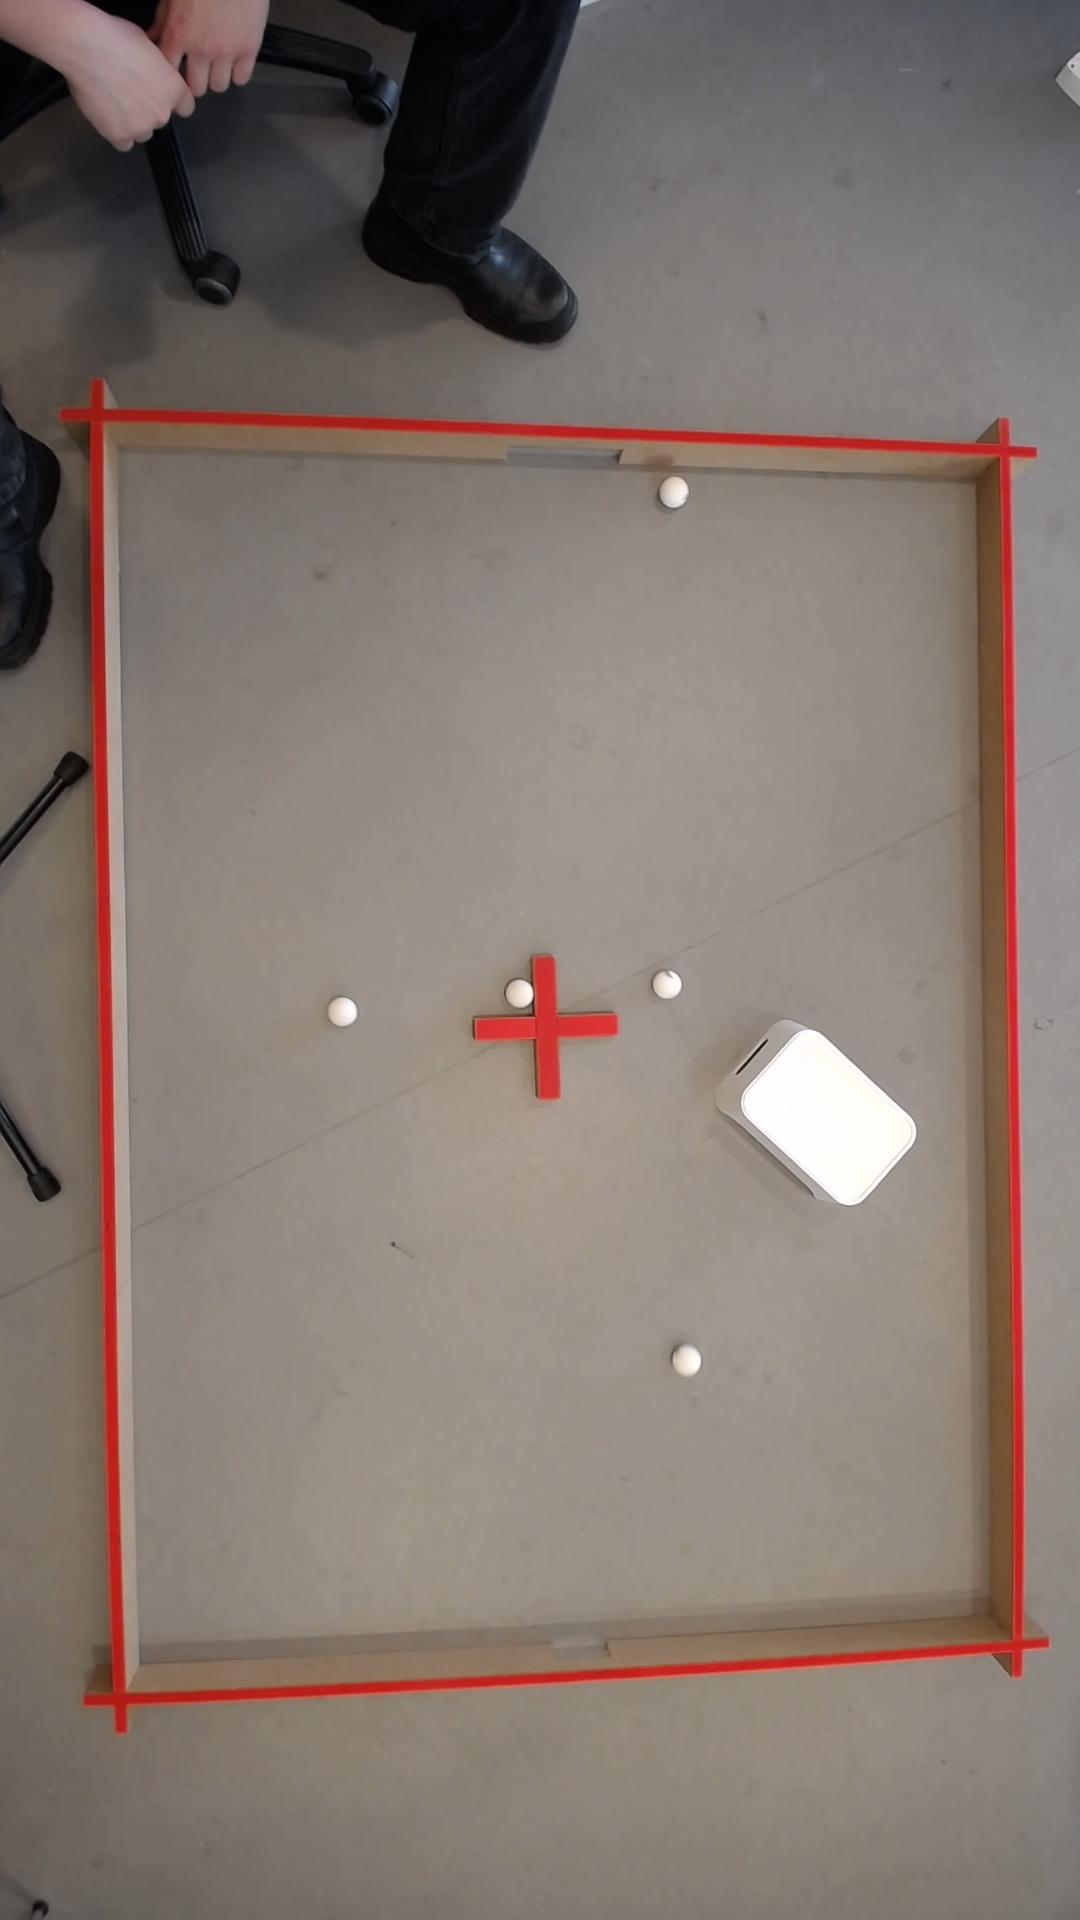balls: (729, 1019, 927, 1215), (330, 994, 361, 1026), (662, 475, 690, 509), (679, 1348, 700, 1374)
car: (509, 978, 537, 1009)
